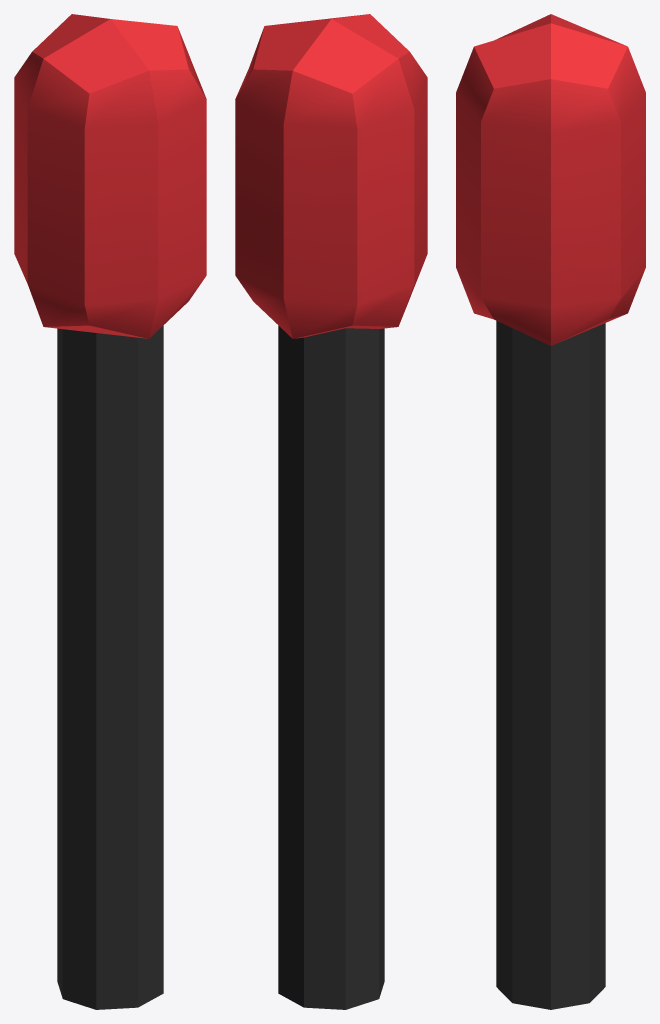
File: Palanca01.fbx
The picture shows the model from 3 angles, left to right: view 1: azimuth 30°, elevation 25°; view 2: azimuth 150°, elevation 25°; view 3: azimuth 270°, elevation 25°; orthographic projection.
Parts seen in each view (by area): view 1: Palanca; view 2: Palanca; view 3: Palanca.
Part boxes in pixels (x1,y1,x2,y2): Palanca: [14, 14, 206, 1009]; Palanca: [235, 14, 427, 1009]; Palanca: [456, 14, 645, 1009].
Bounding box in the file's own units: 0.0574 × 0.3213 × 0.0574.
